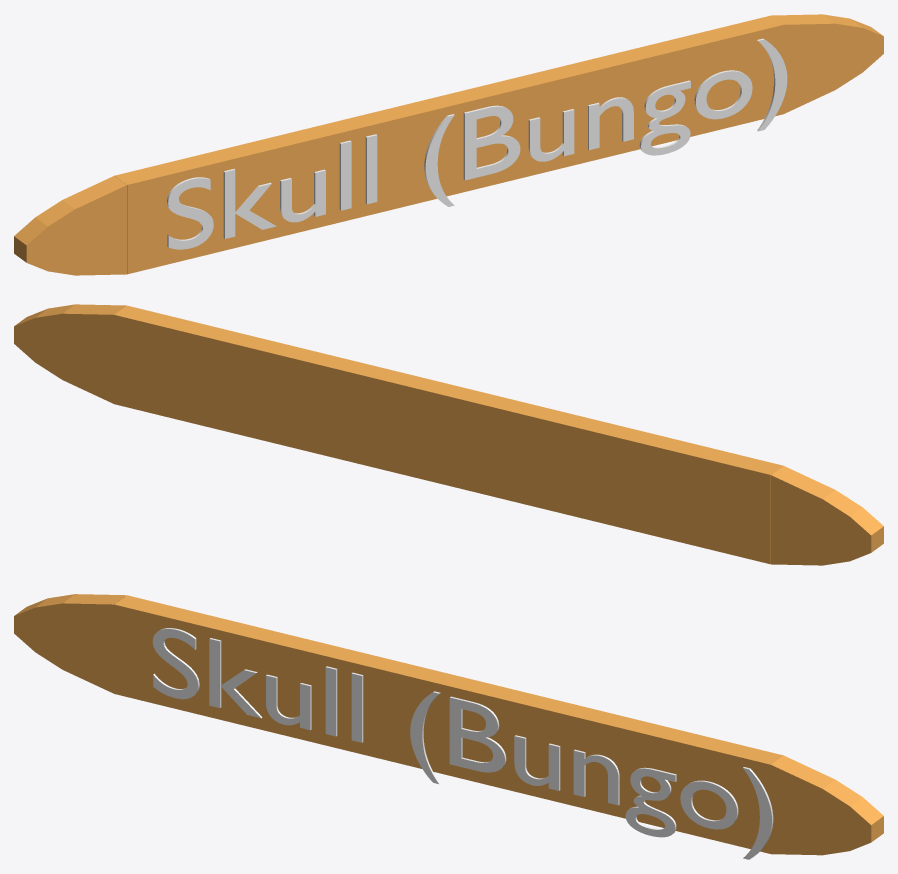
File: txtSkull.fbx
The picture shows the model from 3 angles, top to bottom: view 1: azimuth 30°, elevation 25°; view 2: azimuth 150°, elevation 25°; view 3: azimuth 330°, elevation 25°; orthographic projection.
Parts seen in each view (by area): view 1: txtSkull, Text.062; view 2: txtSkull; view 3: txtSkull, Text.062.
Part boxes in pixels (left/top/right/bottom): txtSkull: left=14, top=14, right=883, bottom=275; Text.062: left=167, top=38, right=787, bottom=249; txtSkull: left=14, top=304, right=883, bottom=565; txtSkull: left=14, top=594, right=883, bottom=855; Text.062: left=152, top=628, right=773, bottom=859.
Size of the model in its own units: 414 by 45.8 by 11.79.
